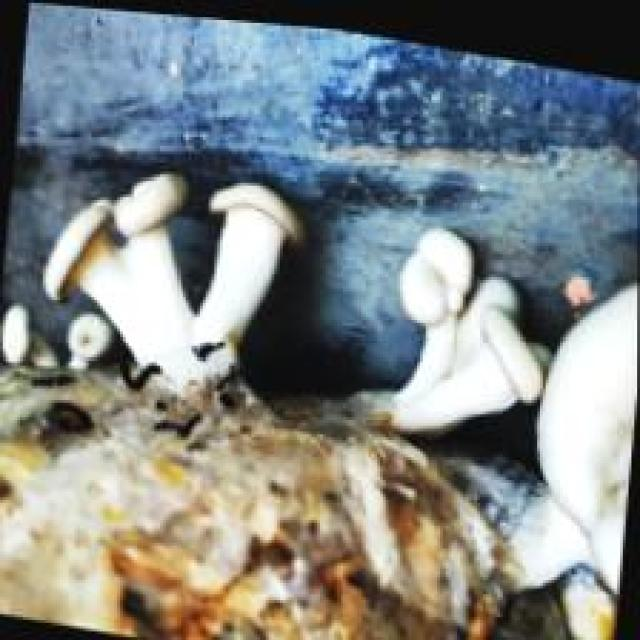chanterelle: (40, 166, 303, 403)
